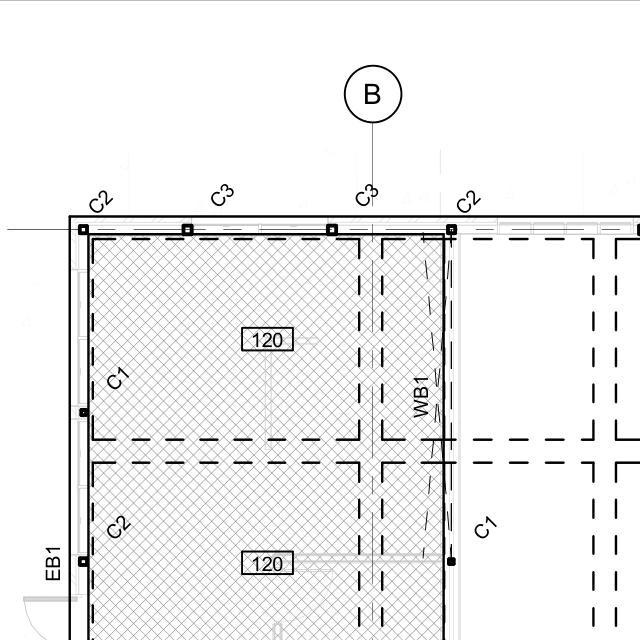C1: (467, 505, 512, 548), (102, 354, 139, 395)
C2: (83, 179, 118, 211), (100, 513, 132, 544), (457, 187, 488, 217)
C3: (347, 168, 388, 209), (200, 175, 239, 209)
EB1: (24, 526, 75, 589)
WB1: (402, 370, 445, 426)
